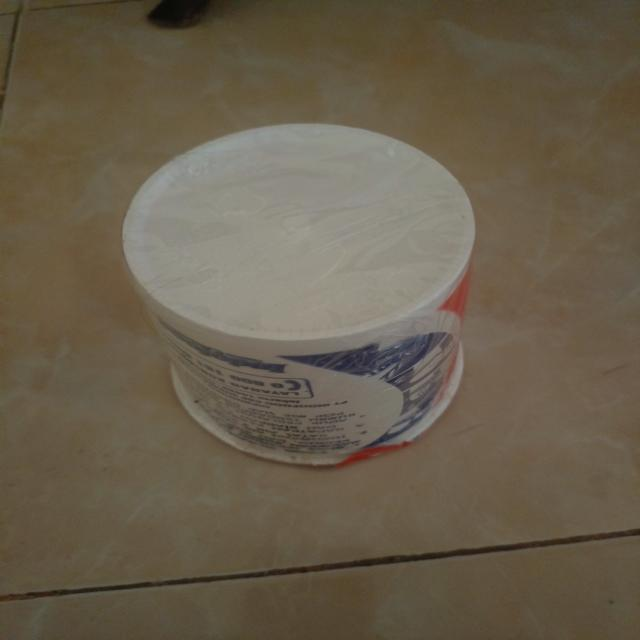popmie-rasa-ayam: (120, 119, 478, 471)
